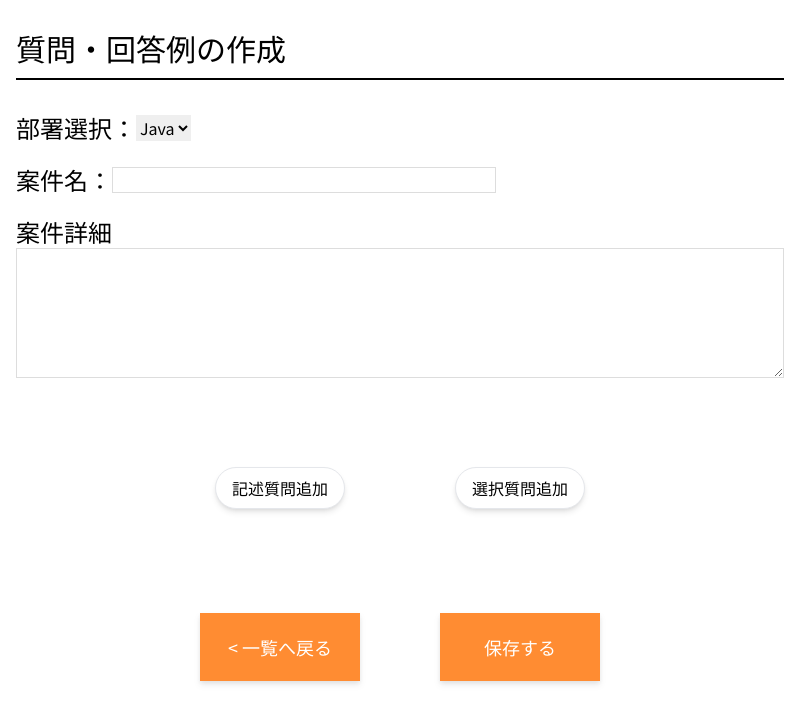
Test: 質問・回答例作成画面テスト › バリデーションテスト（選択式）
Click the button with test id "addSelectButton" at (520, 488), box [455,467,585,509]
(page scrolled)
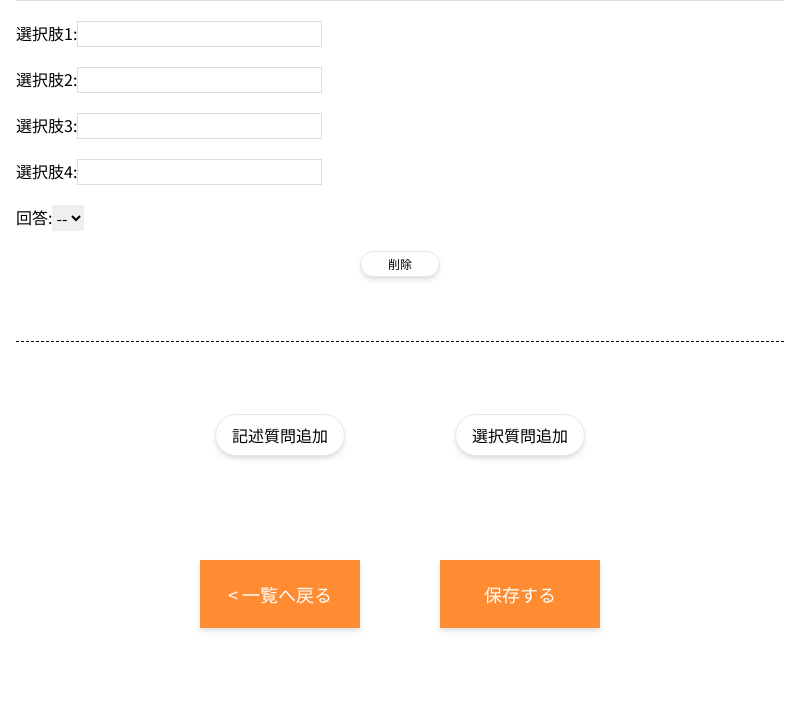
Click the button with test id "sendButton" at (520, 594), box [440,560,600,628]
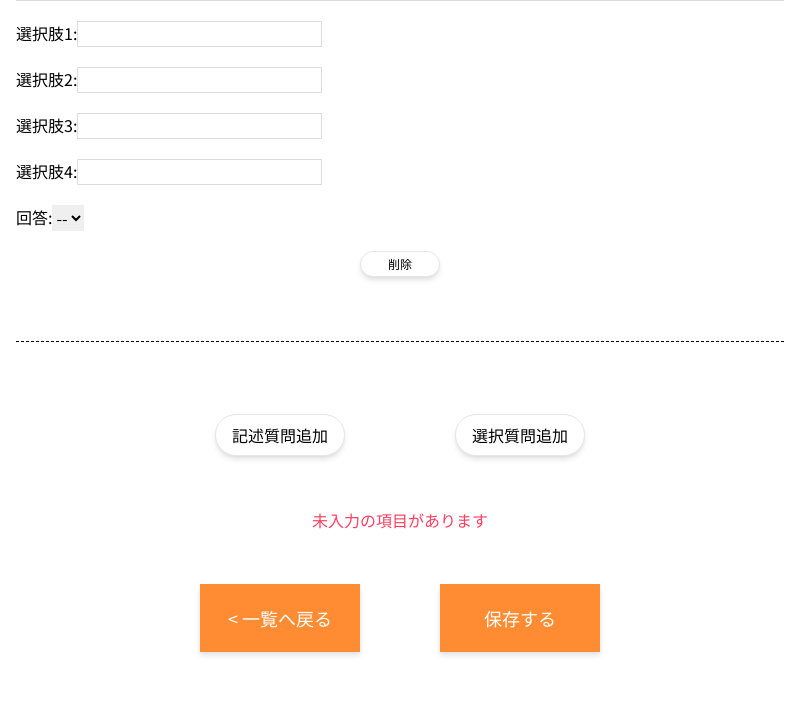
Check: the text with test id "errMsg" reads "未入力の項目があります", box [312,508,488,532]
